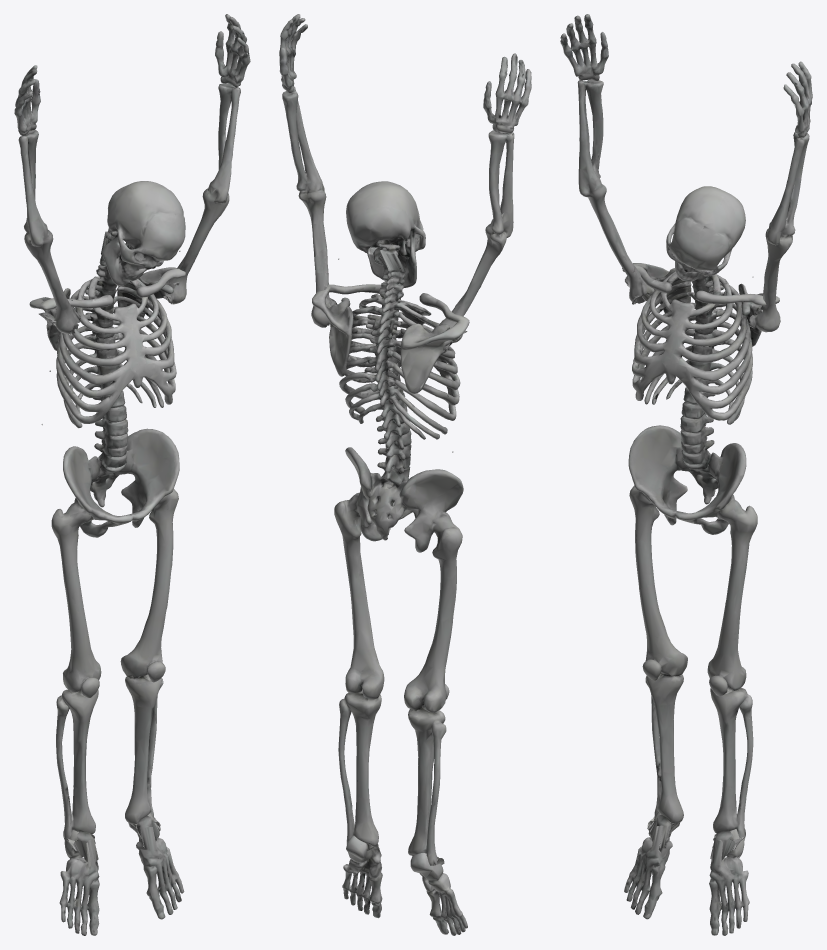
The model's file is skeleton1.glb.
3 views of the same model, side by side, from view 1: azimuth 30°, elevation 25°; view 2: azimuth 150°, elevation 25°; view 3: azimuth 330°, elevation 25° (orthographic).
Visible parts, largest first — view 1: Mesh_0; view 2: Mesh_0; view 3: Mesh_0.
Boxes of the visible parts, bbox=[...] form: Mesh_0: bbox=[14, 14, 250, 935]; Mesh_0: bbox=[279, 14, 531, 935]; Mesh_0: bbox=[560, 14, 812, 935].
Bounding box in the file's own units: 0.697 × 2.48 × 0.2766.
1 material, 1 textured.
